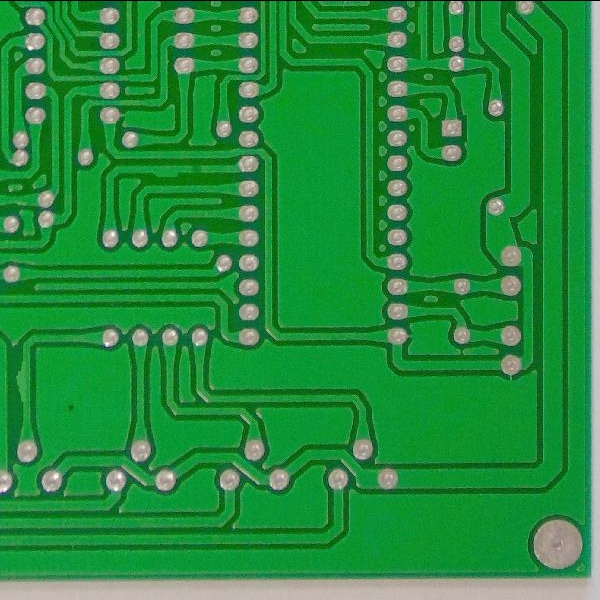spur: (11, 352, 37, 405), (148, 167, 184, 184)
